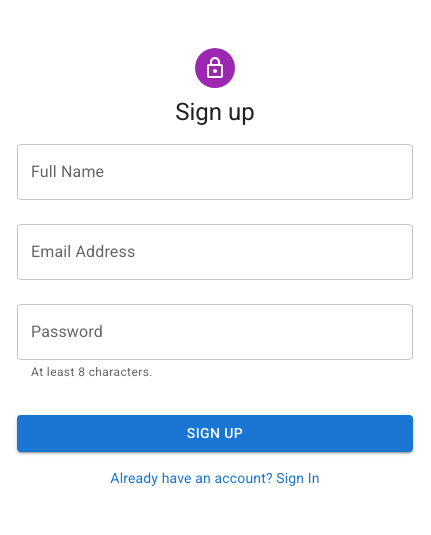
<Signup /> › does NOT navigate when the email is already taken
Type "Ada Okafor" into the field labelled "Full Name" at (215, 172), box x1=17 y1=144 x2=413 y2=200
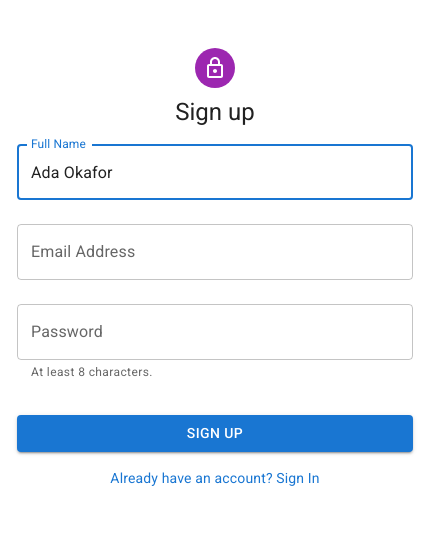
Type "ada@example.com" into the field labelled "Email Address" at (215, 252), box x1=17 y1=224 x2=413 y2=280
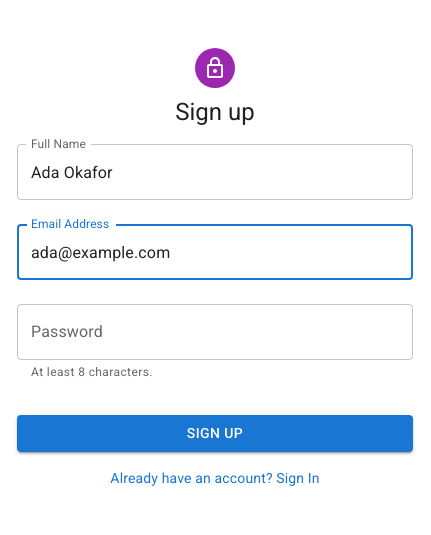
Type "abcd1234" into the password field labelled "Password" at (215, 332), box x1=17 y1=304 x2=413 y2=360
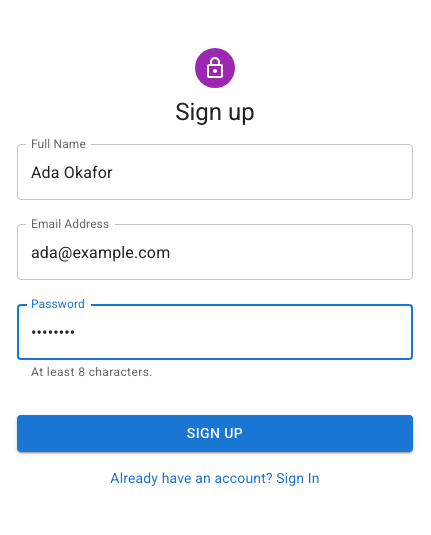
Click the button "Sign Up" at (215, 433), box x1=17 y1=415 x2=413 y2=452
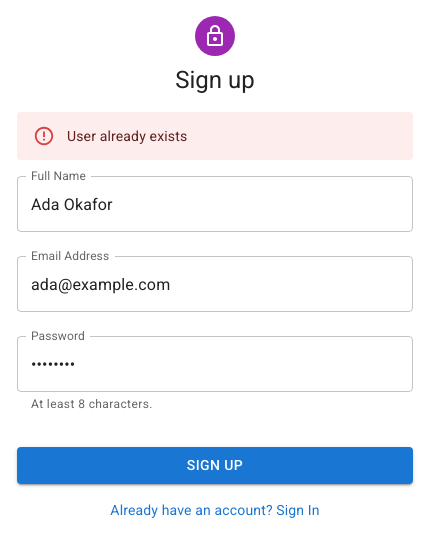
Now the message reads "User already exists", box x1=67 y1=128 x2=187 y2=144
